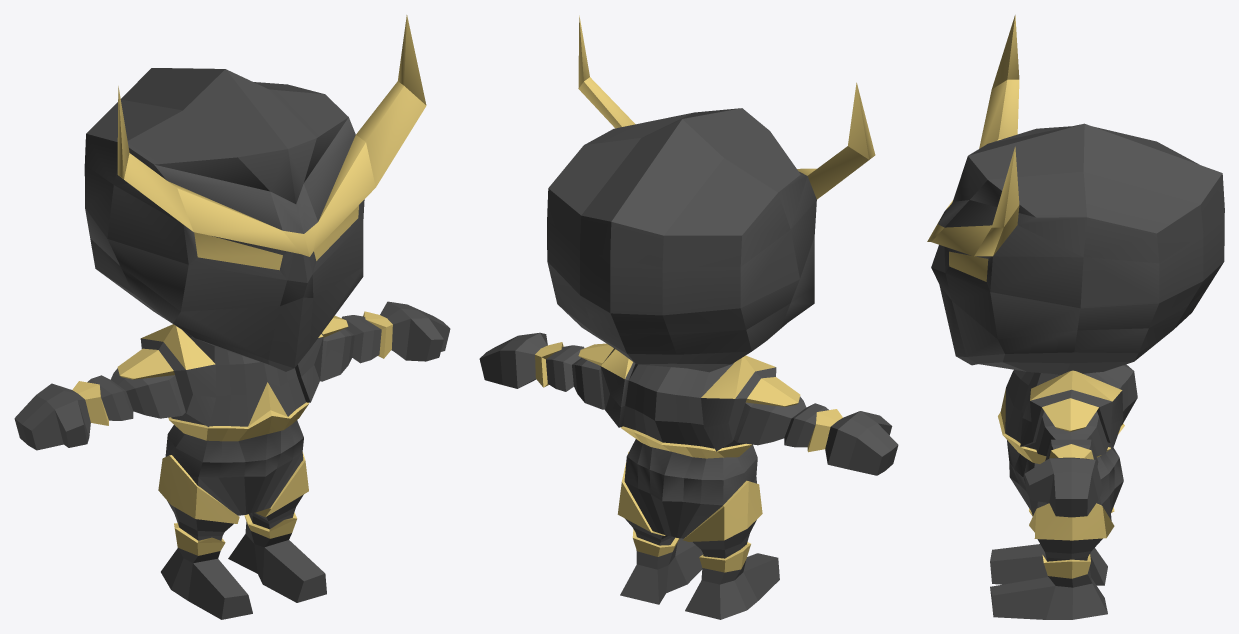
File: mordred.fbx
3 views of the same model, side by side, from view 1: azimuth 30°, elevation 25°; view 2: azimuth 150°, elevation 25°; view 3: azimuth 270°, elevation 25° (orthographic). The views are drawn at different scales.
Parts seen in each view (by area): view 1: helmet, mordred, shoulder pads, leg; view 2: helmet, mordred, shoulder pads, leg; view 3: helmet, mordred, shoulder pads, leg.
Boxes of the visible parts, x1,y1,x2,y2 form: helmet: (84,15,426,371); mordred: (14,301,450,619); shoulder pads: (117,315,348,427); leg: (158,452,308,523); helmet: (547,15,875,372); mordred: (479,332,898,619); shoulder pads: (578,343,800,451); leg: (617,452,762,541); helmet: (927,15,1224,374); mordred: (990,364,1137,619); shoulder pads: (1020,370,1123,447); leg: (1029,503,1114,540).
Bounding box in the file's own units: 203 × 254 × 133.
